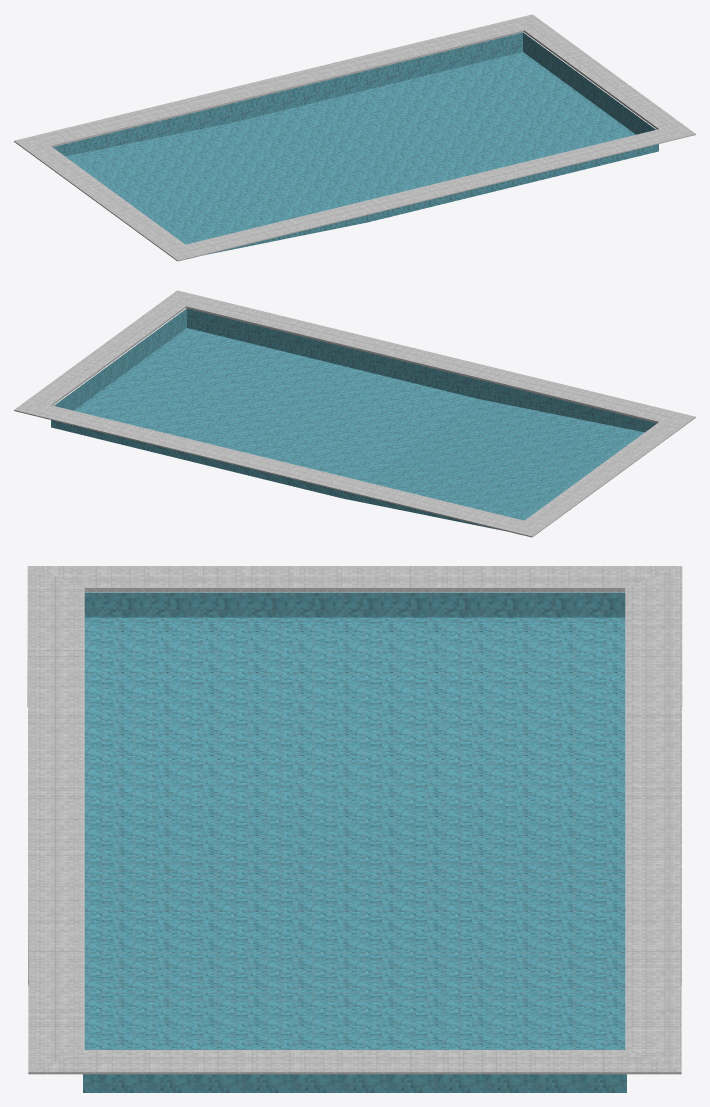
Rendered from pool.dae.
3 views of the same model, one above another, from view 1: azimuth 30°, elevation 25°; view 2: azimuth 150°, elevation 25°; view 3: azimuth 270°, elevation 25° (orthographic). The views are drawn at different scales.
Visible parts, largest first — view 1: pool edge tile; view 2: pool edge tile; view 3: pool edge tile.
Boxes of the visible parts, left/top/right/bottom form: pool edge tile: left=14, top=14, right=695, bottom=261; pool edge tile: left=14, top=290, right=695, bottom=537; pool edge tile: left=27, top=566, right=682, bottom=1092.
Size of the model in its own units: 54.94 by 30.04 by 2.21.
1 material, 1 textured.
